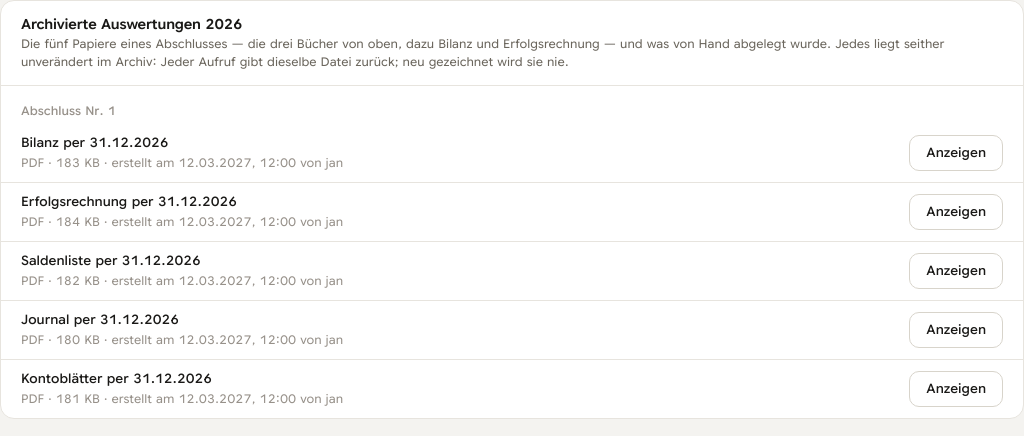
ReportArchivePanel › reportArchivePanelIsBusyWhileAPaperIsOnItsWayTest
Click the button with aria-label "Bilanz per 31.12.2026 anzeigen" at [956, 153], box [909,135,1003,171]
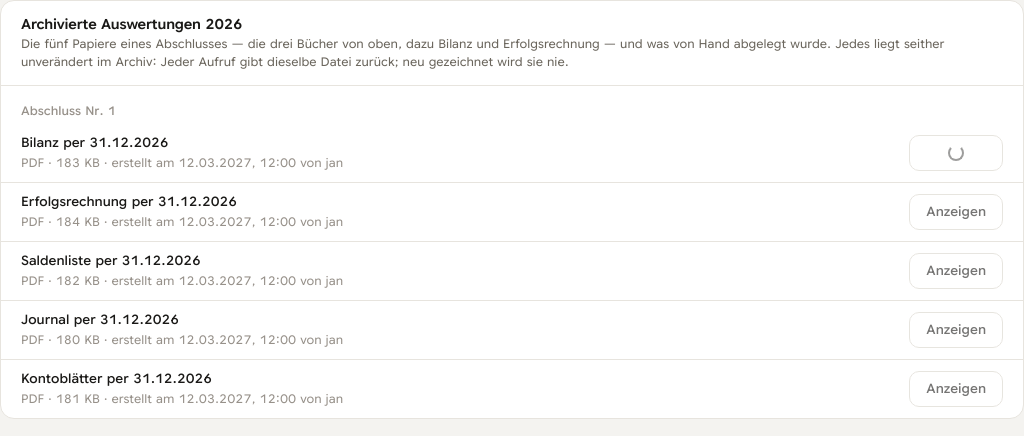
Now the button named "Bilanz per 31.12.2026 anzeigen" is disabled, box [909,135,1003,171]
